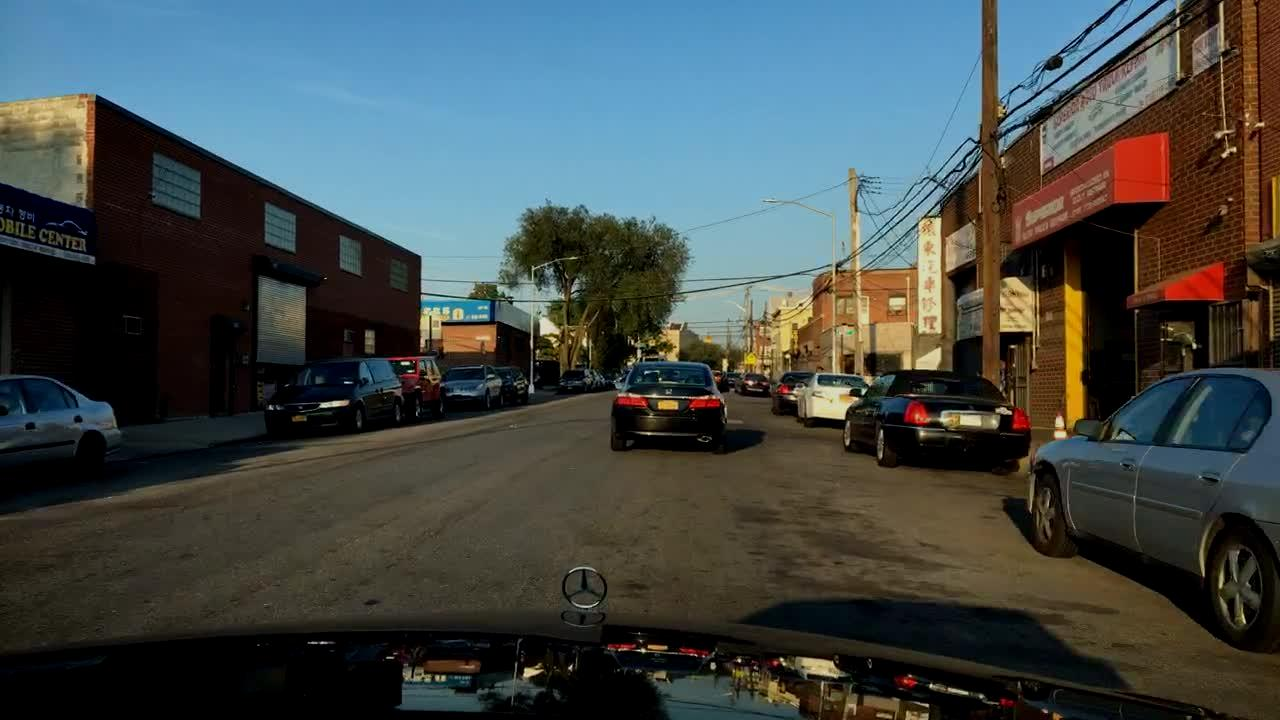Mercedes: (559, 563, 609, 610)
